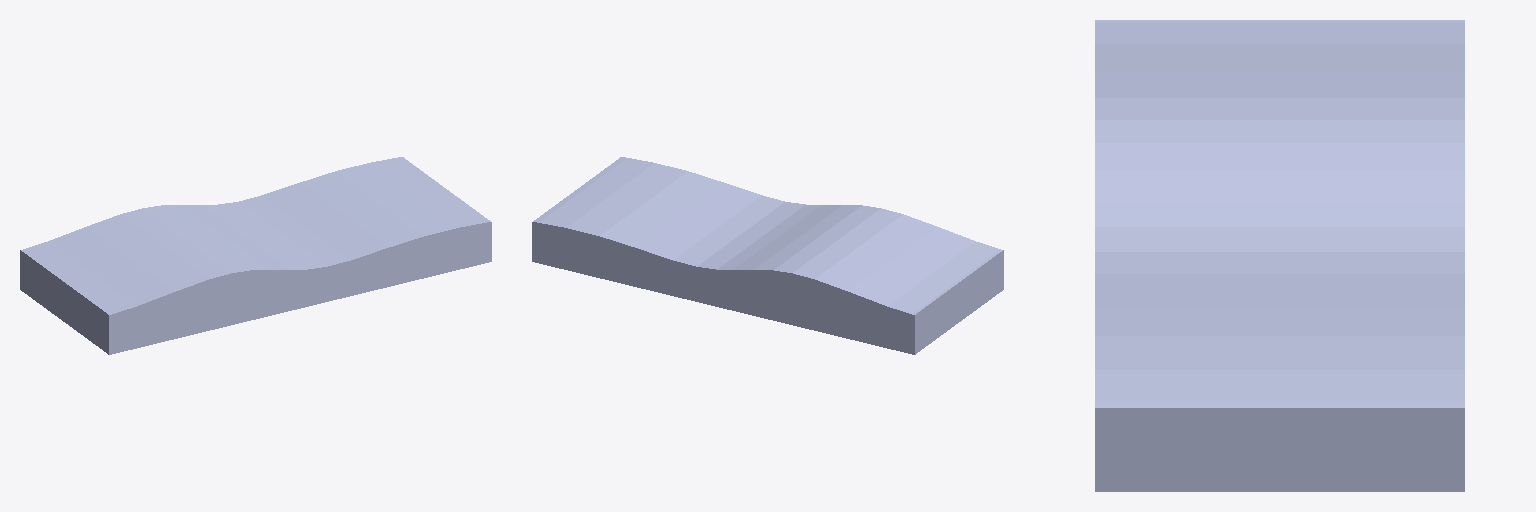
URDF robot description (wave.SLDPRT):
<?xml version="1.0" encoding="utf-8"?>
<!-- This URDF was automatically created by SolidWorks to URDF Exporter! Originally created by [author] ([email redacted]) 
     Commit Version: 1.5.1-0-g916b5db  Build Version: 1.5.7152.31018
     For more information, please see http://wiki.ros.org/sw_urdf_exporter -->
<robot
  name="wave.SLDPRT">
  <link
    name="wave">
    <inertial>
      <origin
        xyz="0.48466 0.2015 0.054283"
        rpy="0 0 0" />
      <mass
        value="43.154" />
      <inertia
        ixx="0.6288"
        ixy="-4.9360000000023E-06"
        ixz="0.037495"
        iyy="3.6316"
        iyz="-4.78749999996698E-06"
        izz="4.1709" />
    </inertial>
    <visual>
      <origin
        xyz="0 0 0"
        rpy="1.5707963267949 0 0" />
      <geometry>
        <mesh
          filename="package://wave/meshes/wave.STL" />
      </geometry>
      <material
        name="">
        <color
          rgba="0.79216 0.81961 0.93333 1" />
        <texture
          filename="package://wave/textures/" />
      </material>
    </visual>
    <collision>
      <origin
        xyz="0 0 0"
        rpy="1.5707963267949 0 0" />
      <geometry>
        <mesh
          filename="package://wave/meshes/wave.STL" />
      </geometry>
    </collision>
  </link>
</robot>

--- What the picture shows (computed from the rendered views, not written in the file) ---
The picture shows the robot from 3 angles, left to right: view 1: azimuth 30°, elevation 25°; view 2: azimuth 150°, elevation 25°; view 3: azimuth 270°, elevation 25°; orthographic projection.
Model wave.SLDPRT with 1 links and 0 joints (none), rooted at wave, posed all joints at 0.
Visible links, largest first — view 1: wave; view 2: wave; view 3: wave.
Link boxes in pixels (x1,y1,x2,y2): wave: (20,157,491,354); wave: (532,157,1003,354); wave: (1095,20,1464,491).
Bounding box of the posed robot: 1 × 0.403 × 0.1299 m (x, y, z).
Meshes: 1 distinct files referenced, 1 mesh visuals loaded (1 binary STL).
